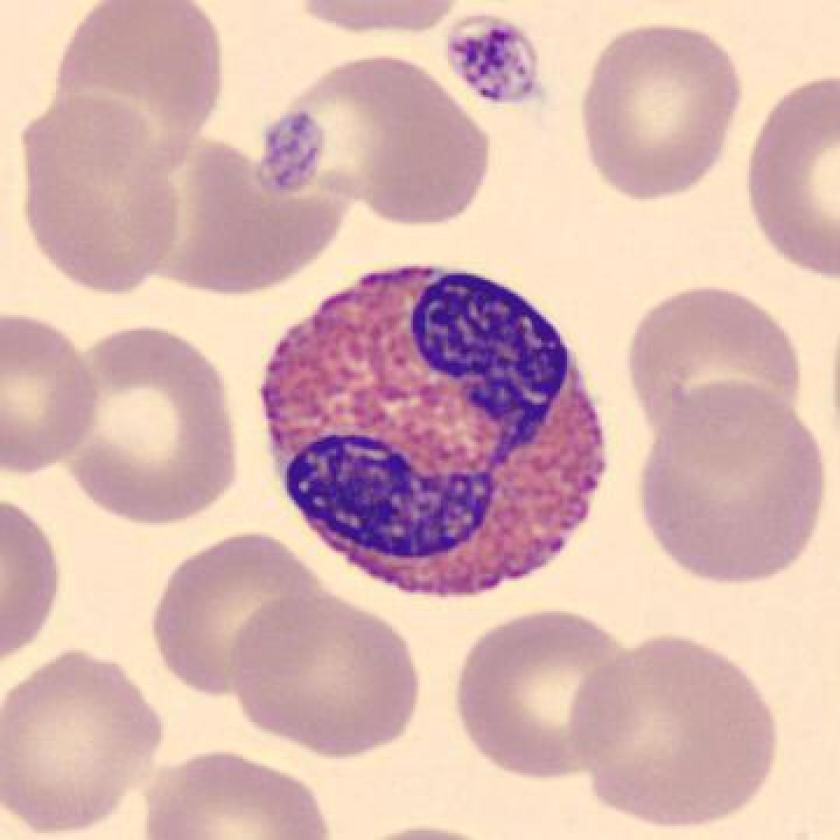eosinophil: (253, 253, 617, 610)
